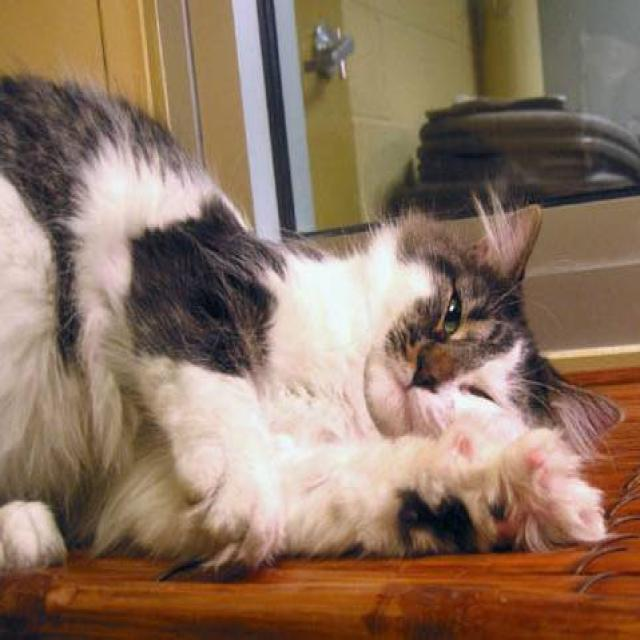Kucing: (4, 65, 604, 590)
